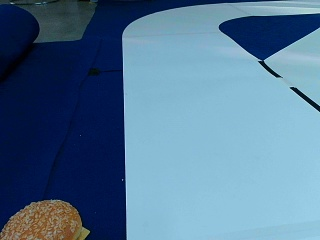burger: (3, 199, 83, 239)
